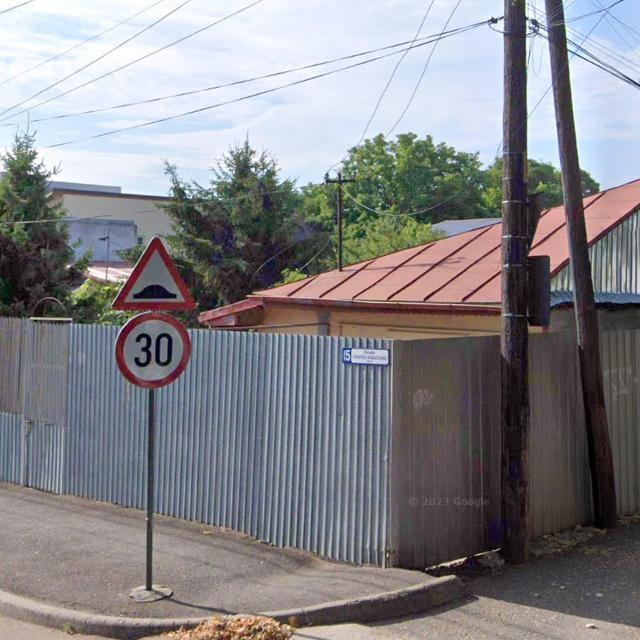forb_speed_over_30: (114, 310, 193, 390)
